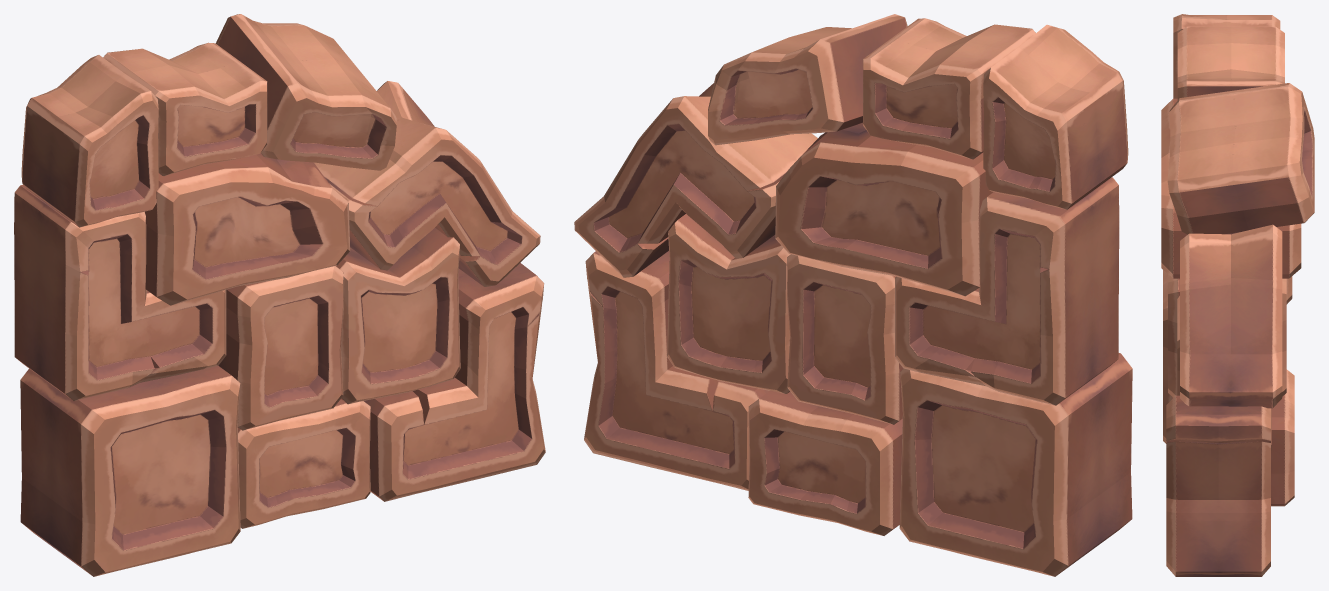
The model's file is BrokenWallNoPillar.fbx.
3 views of the same model, side by side, from view 1: azimuth 30°, elevation 25°; view 2: azimuth 150°, elevation 25°; view 3: azimuth 270°, elevation 25° (orthographic). The views are drawn at different scales.
Parts seen in each view (by area): view 1: BrokenWallNoPillar; view 2: BrokenWallNoPillar; view 3: BrokenWallNoPillar.
Boxes of the visible parts, left/top/right/bottom form: BrokenWallNoPillar: left=14, top=14, right=545, bottom=576; BrokenWallNoPillar: left=574, top=14, right=1132, bottom=576; BrokenWallNoPillar: left=1161, top=14, right=1314, bottom=576.
Bounding box in the file's own units: 1.87 × 1.77 × 0.6157.
